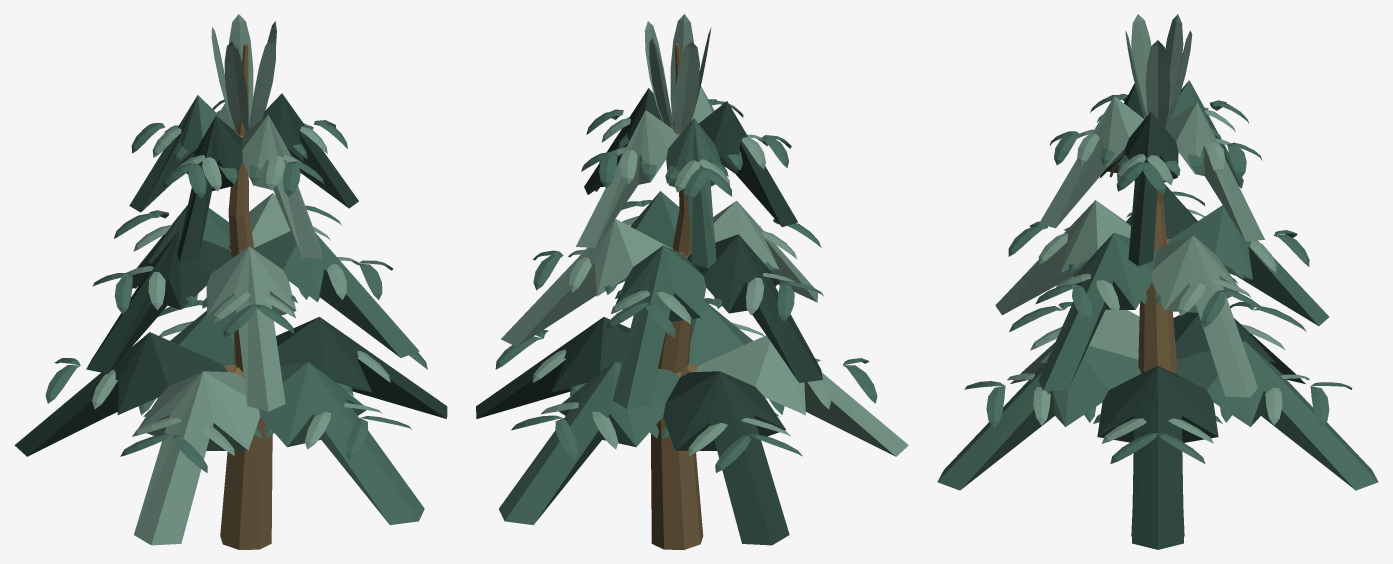
Rendered from ALPINE_DWARF_PINE.hi.glb.
The picture shows the model from 3 angles, left to right: view 1: azimuth 30°, elevation 25°; view 2: azimuth 150°, elevation 25°; view 3: azimuth 270°, elevation 25°; orthographic projection.
Visible parts, largest first — view 1: ALPINE_DWARF_PINE; view 2: ALPINE_DWARF_PINE; view 3: ALPINE_DWARF_PINE.
Boxes of the visible parts, bbox=[...] form: ALPINE_DWARF_PINE: bbox=[14, 14, 447, 549]; ALPINE_DWARF_PINE: bbox=[476, 14, 908, 549]; ALPINE_DWARF_PINE: bbox=[937, 14, 1378, 549].
Size of the model in its own units: 0.6828 by 0.9122 by 0.7133.
1 material, 1 textured.
